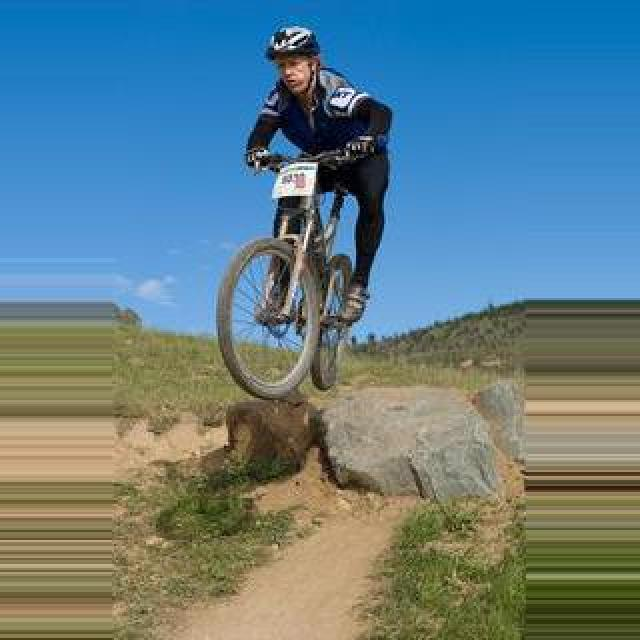MC-Bike: (244, 24, 392, 312)
Person: (216, 154, 372, 398)
